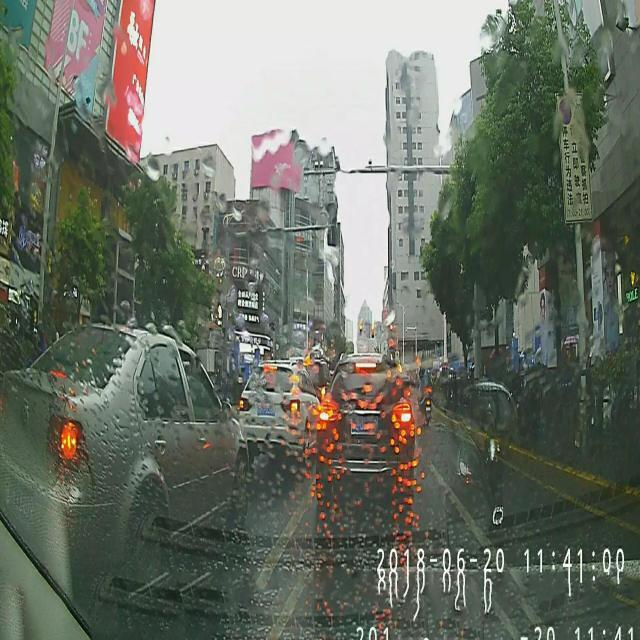car: (0, 321, 248, 559), (318, 351, 415, 507), (238, 358, 319, 471)
